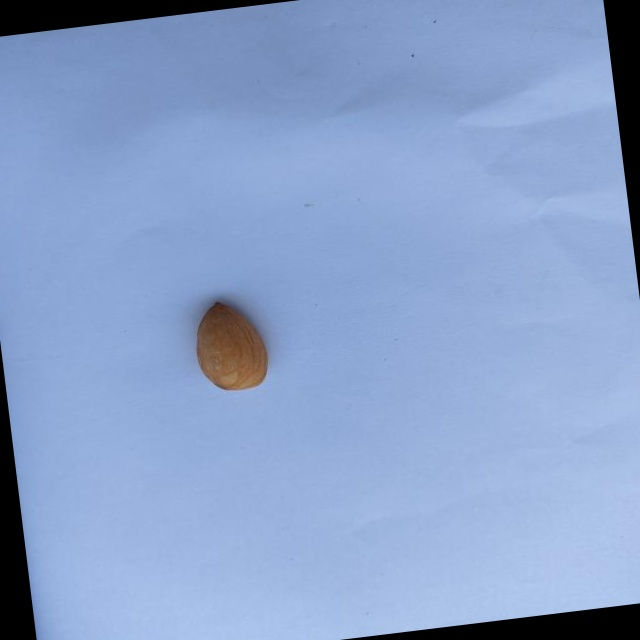grade2: (187, 293, 278, 398)
